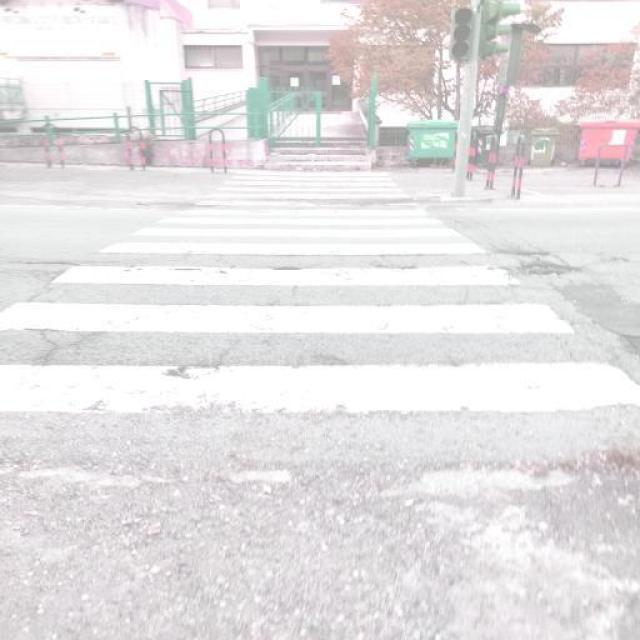crosswalk: (2, 168, 640, 413)
